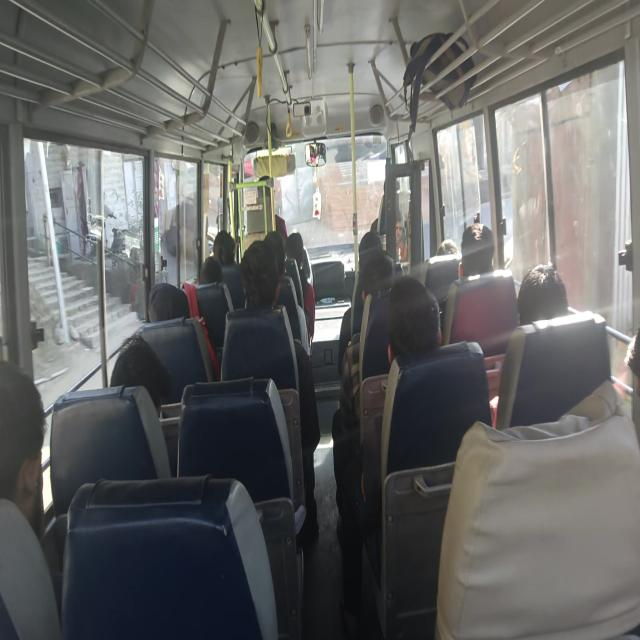person: (0, 375, 61, 612), (92, 324, 177, 454), (373, 271, 442, 368), (504, 248, 566, 327), (238, 256, 288, 324), (137, 266, 187, 326), (456, 217, 500, 282), (192, 250, 229, 298), (258, 225, 290, 268), (362, 257, 397, 295), (284, 216, 308, 266), (211, 235, 237, 273), (435, 219, 462, 253), (356, 234, 388, 258)
